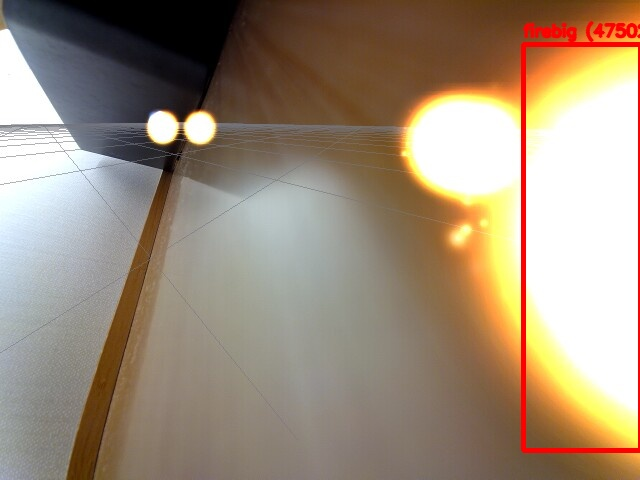firebig: (523, 44, 640, 450)
